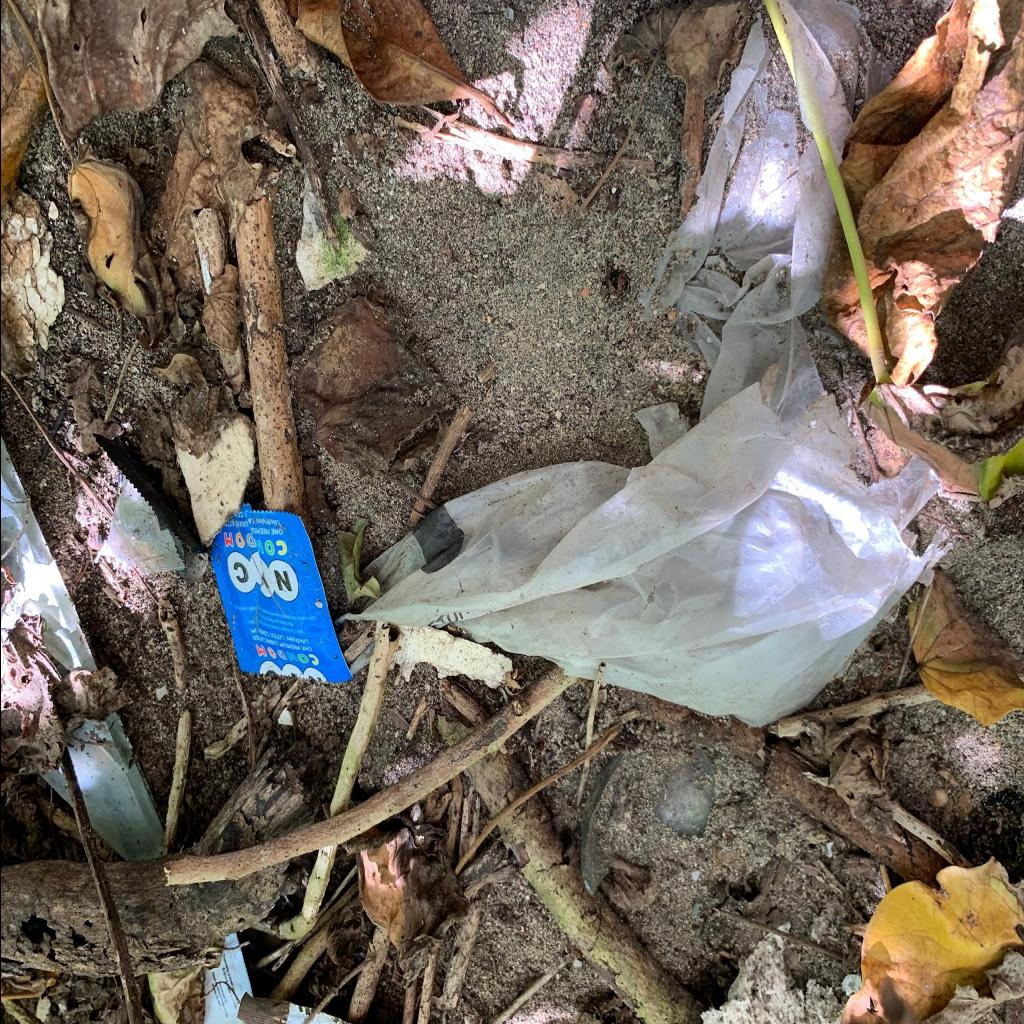Broken glass: (578, 744, 715, 896)
Other plastic: (210, 504, 350, 682), (95, 436, 207, 580), (204, 930, 250, 1022), (238, 995, 348, 1021)
Plastic film: (331, 0, 953, 728)
Styrofoam piece: (2, 193, 62, 369), (391, 622, 511, 688)
Unlabeled litter: (1, 436, 163, 860)
